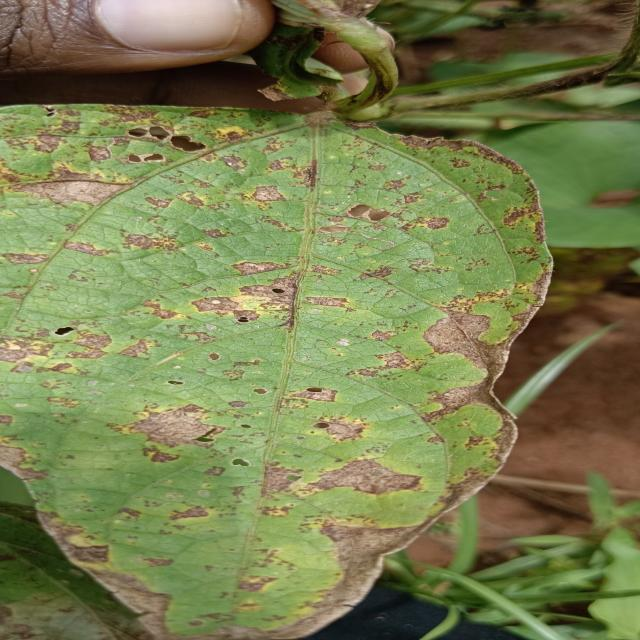Black gram_leaf spot: (0, 91, 568, 640)
